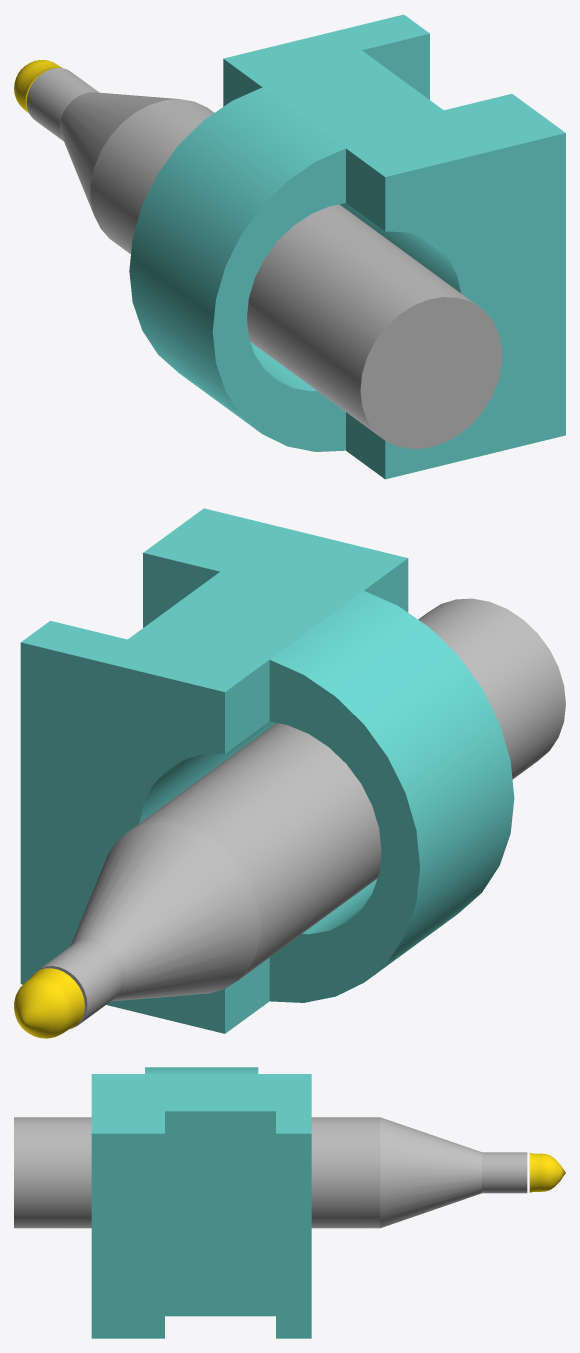
Rendered from 2DPlotter-YCarriage.gltf.
3 views of the same model, one above another, from view 1: azimuth 30°, elevation 25°; view 2: azimuth 150°, elevation 25°; view 3: azimuth 270°, elevation 25° (orthographic). The views are drawn at different scales.
Visible parts, largest first — view 1: mesh18_meshnode_18, mesh3_meshnode_3, mesh22_meshnode_22, mesh17_meshnode_17, mesh2_meshnode_2, mesh23_meshnode_23, mesh4_meshnode_4, mesh19_meshnode_19, mesh5_meshnode_5, mesh12_meshnode_12, mesh20_meshnode_20, mesh21_meshnode_21 (+2 smaller); view 2: mesh3_meshnode_3, mesh10_meshnode_10, mesh22_meshnode_22, mesh17_meshnode_17, mesh4_meshnode_4, mesh8_meshnode_8, mesh1_meshnode_1, mesh19_meshnode_19, mesh5_meshnode_5, mesh14_meshnode_14, mesh7_meshnode_7, mesh9_meshnode_9 (+1 smaller); view 3: mesh13_meshnode_13, mesh3_meshnode_3, mesh15_meshnode_15, mesh17_meshnode_17, mesh4_meshnode_4, mesh11_meshnode_11, mesh5_meshnode_5, mesh1_meshnode_1, mesh22_meshnode_22.
Part boxes in pixels (box(x1,y1,x2,y2)): mesh18_meshnode_18: box(385, 133, 565, 479); mesh3_meshnode_3: box(90, 99, 479, 439); mesh22_meshnode_22: box(129, 87, 345, 432); mesh17_meshnode_17: box(223, 14, 565, 176); mesh2_meshnode_2: box(360, 297, 501, 449); mesh23_meshnode_23: box(212, 148, 345, 451); mesh4_meshnode_4: box(60, 92, 179, 213); mesh19_meshnode_19: box(250, 203, 460, 391); mesh5_meshnode_5: box(26, 68, 98, 140); mesh12_meshnode_12: box(362, 33, 429, 99); mesh20_meshnode_20: box(346, 148, 385, 231); mesh21_meshnode_21: box(346, 412, 385, 478); mesh3_meshnode_3: box(129, 598, 565, 979); mesh10_meshnode_10: box(20, 642, 224, 1033); mesh22_meshnode_22: box(269, 591, 514, 980); mesh17_meshnode_17: box(21, 508, 407, 691); mesh4_meshnode_4: box(70, 822, 260, 1001); mesh8_meshnode_8: box(269, 660, 419, 1002); mesh1_meshnode_1: box(14, 968, 84, 1038); mesh19_meshnode_19: box(139, 721, 377, 934); mesh5_meshnode_5: box(38, 938, 125, 1024); mesh14_meshnode_14: box(143, 553, 219, 627); mesh7_meshnode_7: box(225, 660, 269, 753); mesh9_meshnode_9: box(225, 957, 269, 1033); mesh13_meshnode_13: box(165, 1111, 275, 1316); mesh3_meshnode_3: box(14, 1117, 380, 1228); mesh15_meshnode_15: box(91, 1133, 164, 1338); mesh17_meshnode_17: box(91, 1074, 311, 1133); mesh4_meshnode_4: box(380, 1117, 481, 1227); mesh11_meshnode_11: box(276, 1133, 311, 1338); mesh5_meshnode_5: box(482, 1152, 527, 1193); mesh1_meshnode_1: box(529, 1153, 565, 1192); mesh22_meshnode_22: box(145, 1067, 258, 1073).
Bounding box in the file's own units: 0.0543 × 0.05 × 0.122.
